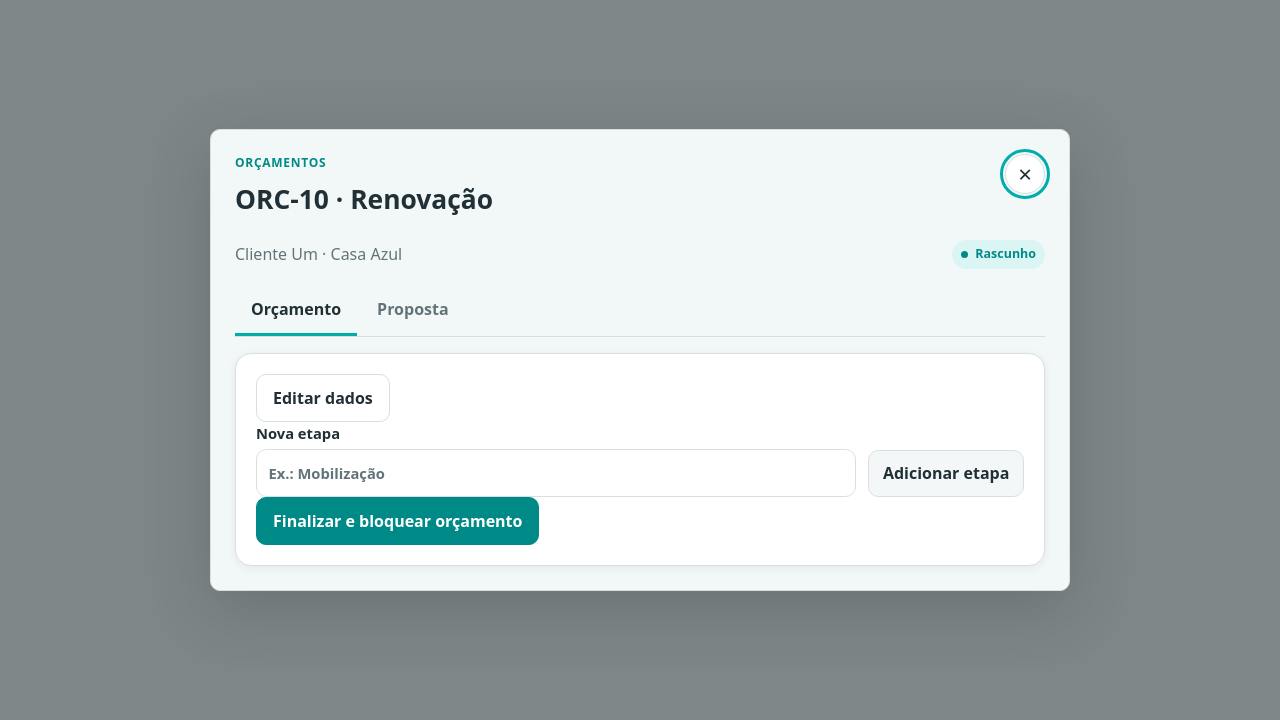
budget routes › switches between accessible budget and proposal tabs
Step 1. Click the tab "Proposta" → [413, 310], box [361, 285, 465, 336]
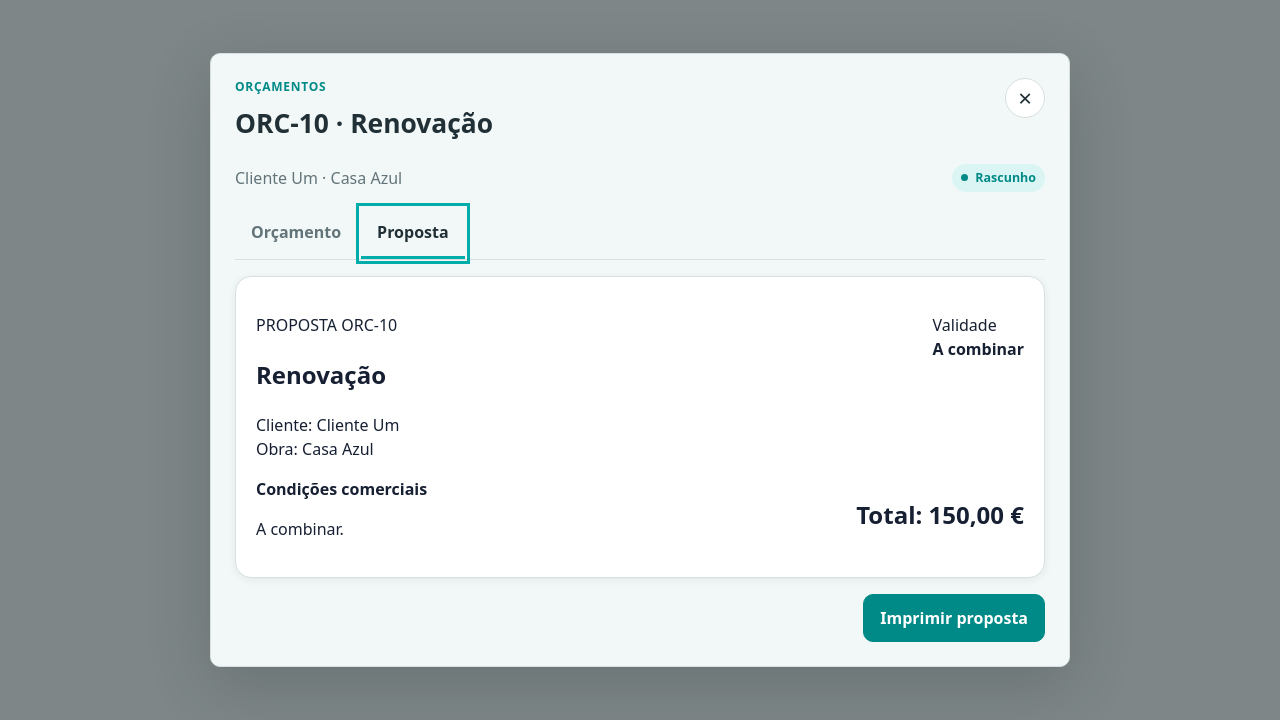
Check: the text "PROPOSTA ORC-10" is shown, box [256, 313, 399, 337]
Check: the button "Imprimir proposta" is shown, box [863, 594, 1045, 642]
